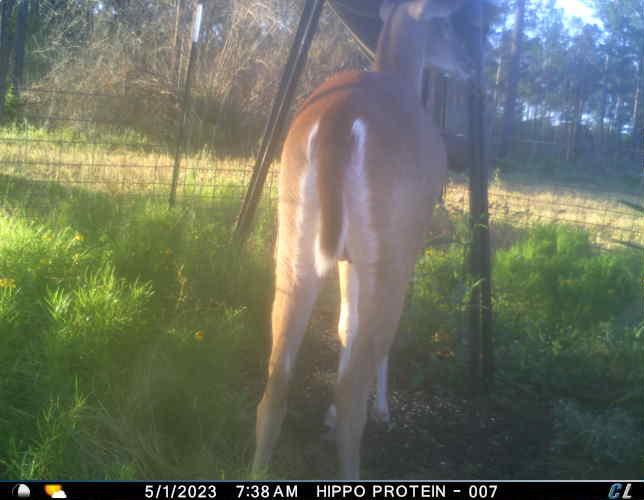Deer: (256, 0, 469, 482)
